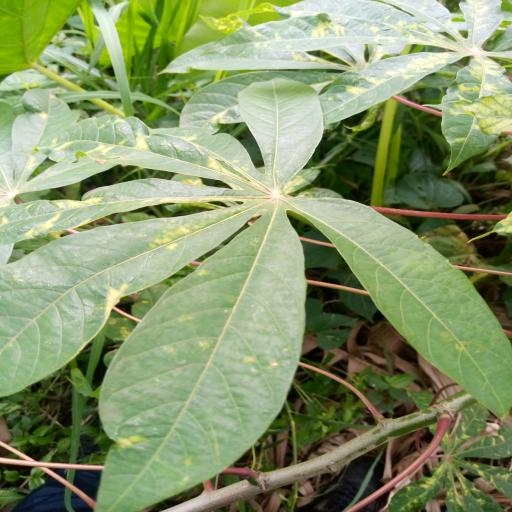Cassava_Brown_Leaf_Spot: (6, 76, 512, 502)
